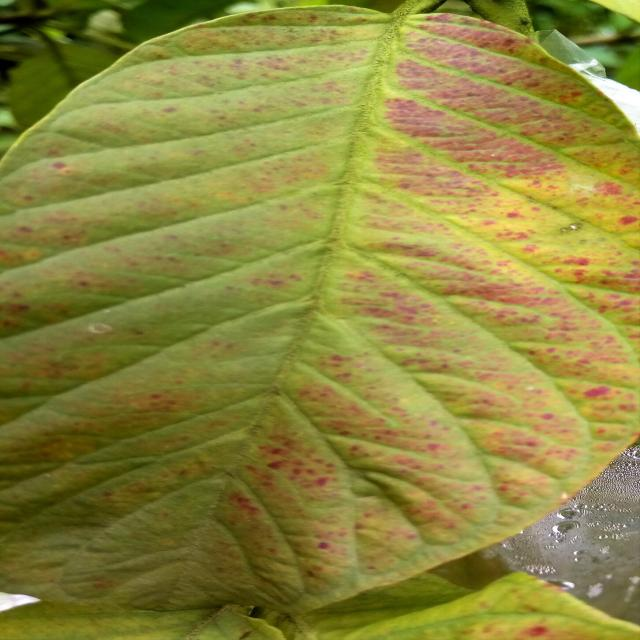Red Rust: (2, 2, 637, 614)
